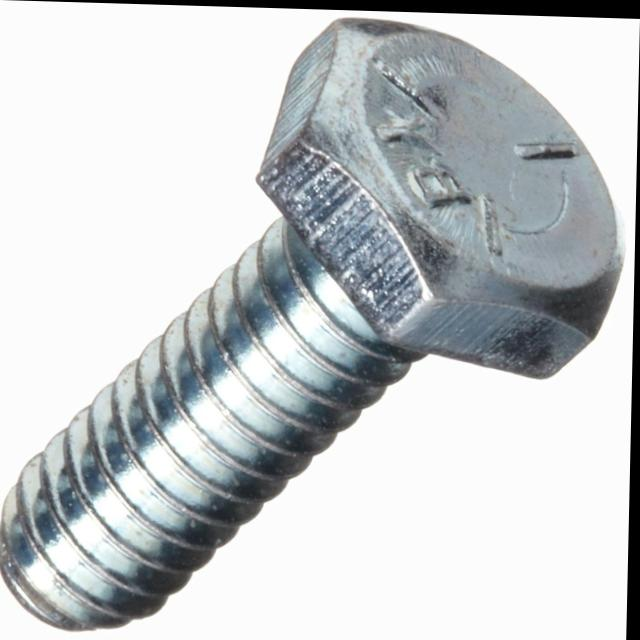Regular bolt: (215, 10, 633, 404)
